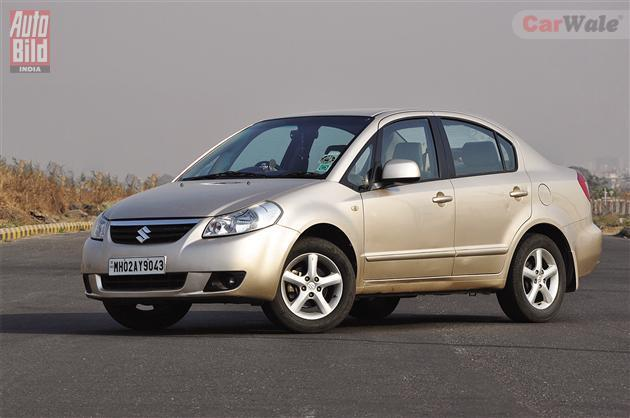suzuki: (132, 223, 156, 245)
